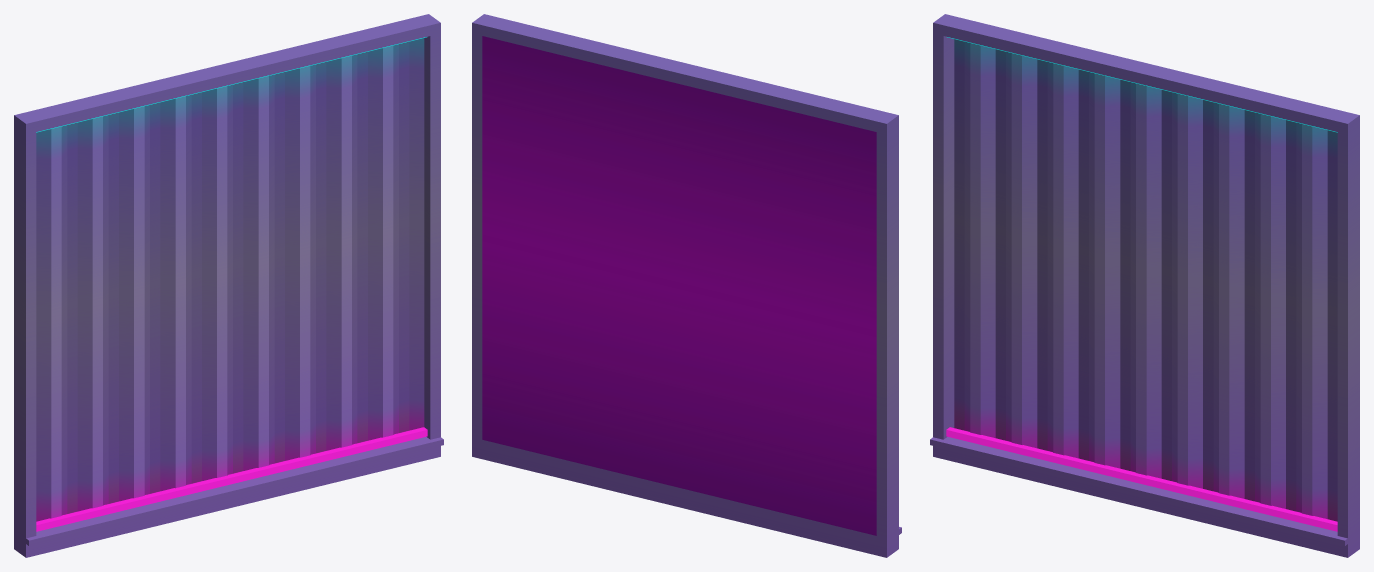
Rendered from panel_blue.gltf.
3 renders of one model, left to right at view 1: azimuth 30°, elevation 25°; view 2: azimuth 150°, elevation 25°; view 3: azimuth 330°, elevation 25°, orthographic.
Visible parts, largest first — view 1: Details.003, Plane.005, Neones.002; view 2: Plane.006, Plane.005; view 3: Details.003, Plane.005, Neones.002.
Boxes of the visible parts, box(x1,y1,x2,y2) form: Details.003: box(36, 38, 424, 521); Plane.005: box(14, 14, 443, 557); Neones.002: box(36, 37, 427, 531); Plane.006: box(482, 36, 876, 535); Plane.005: box(472, 14, 901, 557); Details.003: box(954, 39, 1337, 521); Plane.005: box(930, 14, 1359, 557); Neones.002: box(946, 37, 1337, 531).
Size of what is drawn, in the model's own units: 4 by 4 by 0.2507.
Materials: 2 (2 with a texture image).
